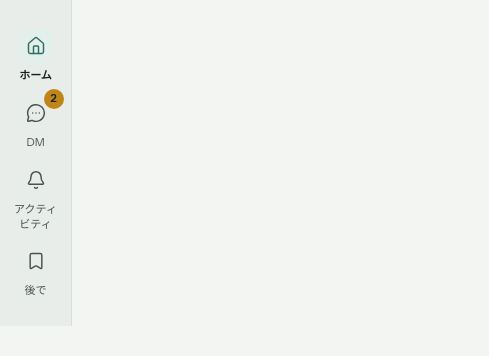
Test case: SideNavRail のホバー（ADR 0058 の追記） › ポインタを乗せると、そのメニューの一覧を重ねて出し、外すと閉じる
The width and height of the screenshot is (489, 356).
Hover over the list item "アクティビティ" at [36, 200], box [14,170,57,230]
Wait 200 ms
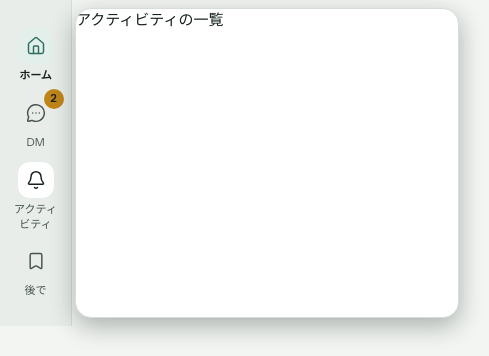
Expected: the text "アクティビティの一覧" is shown, [76,10,224,29]
Move the pointer off the navigation bar named "メニュー", box [0,0,72,326]
Wait 300 ms
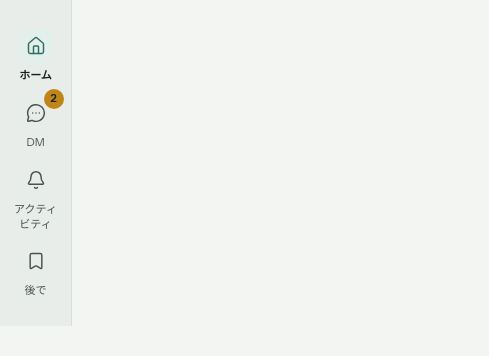
Expected: the text "アクティビティの一覧" is gone
